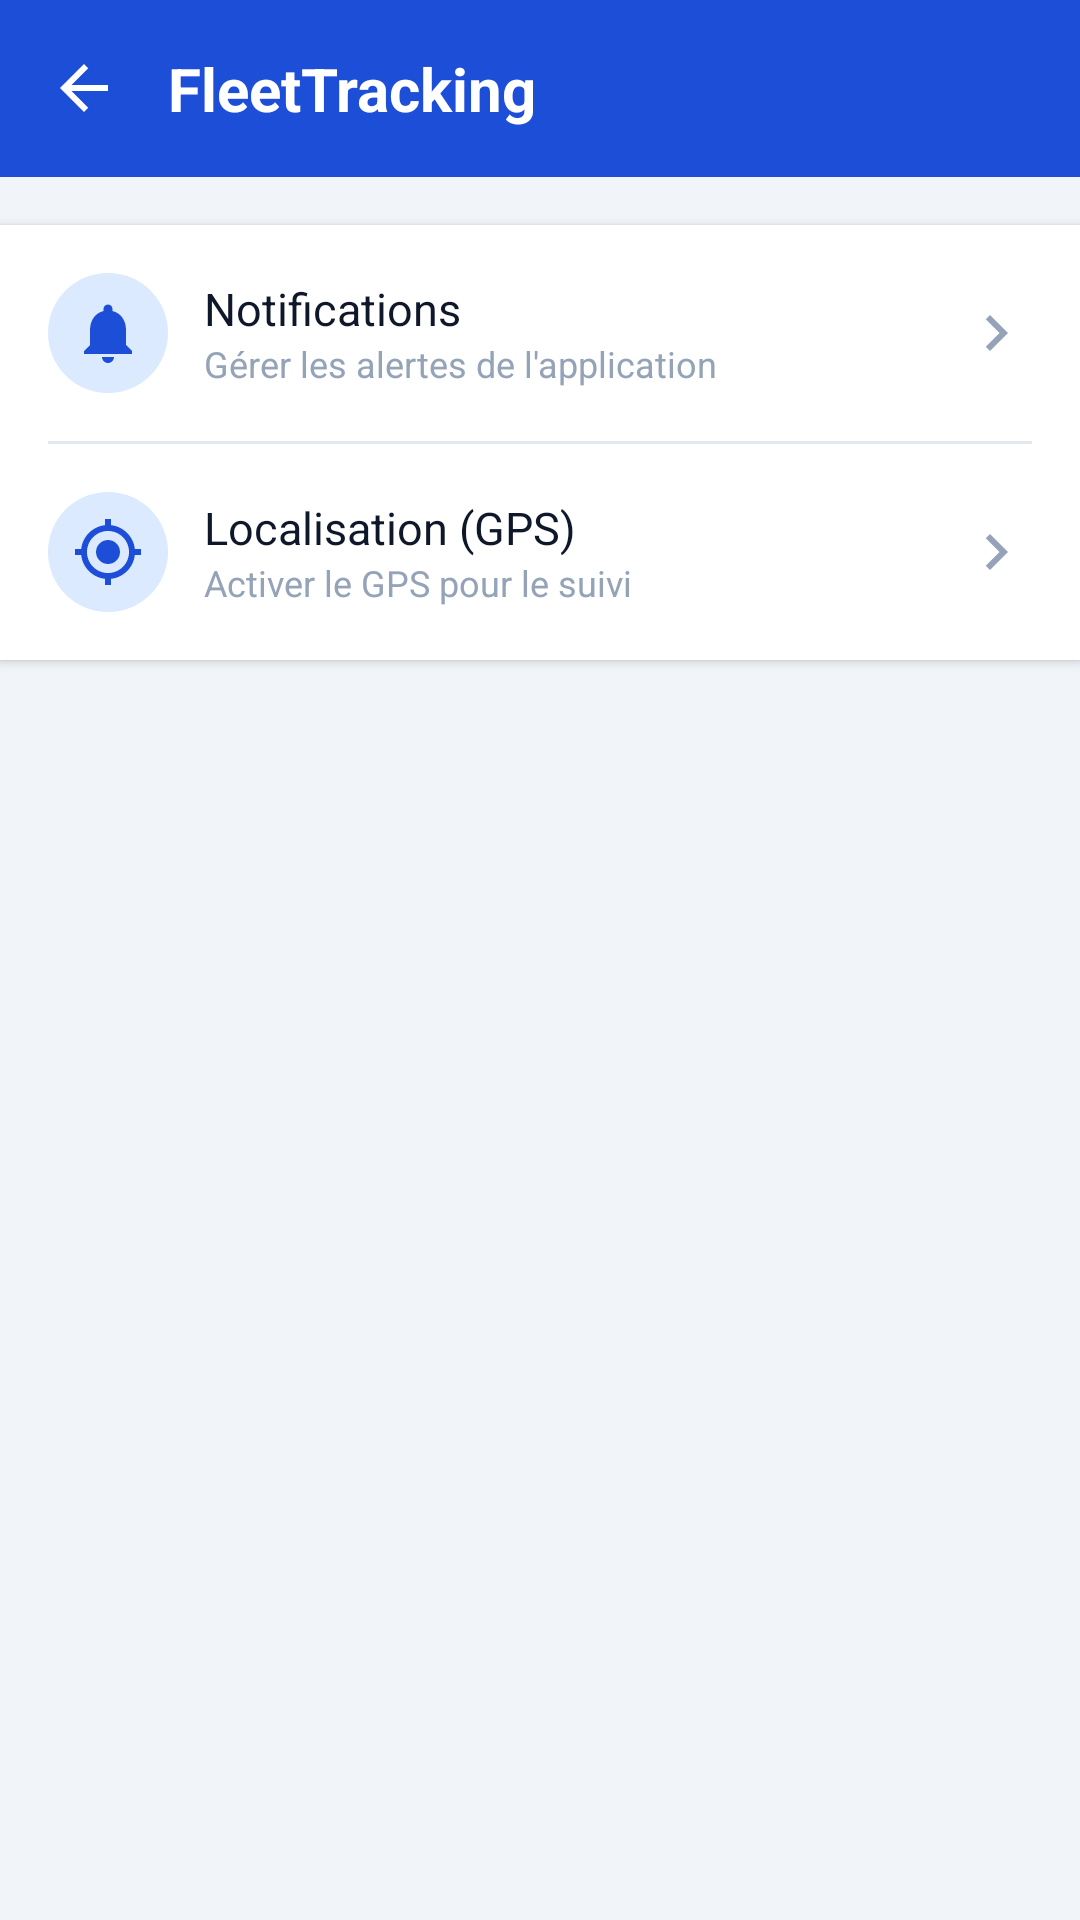

Icons on this 1080px×1920px Android screen, each with the point to tap as point (x, y):
bell: point (108, 333)
chevron right: point (997, 333), point (997, 552)
locate: point (108, 552)
Retour: point (84, 88)
